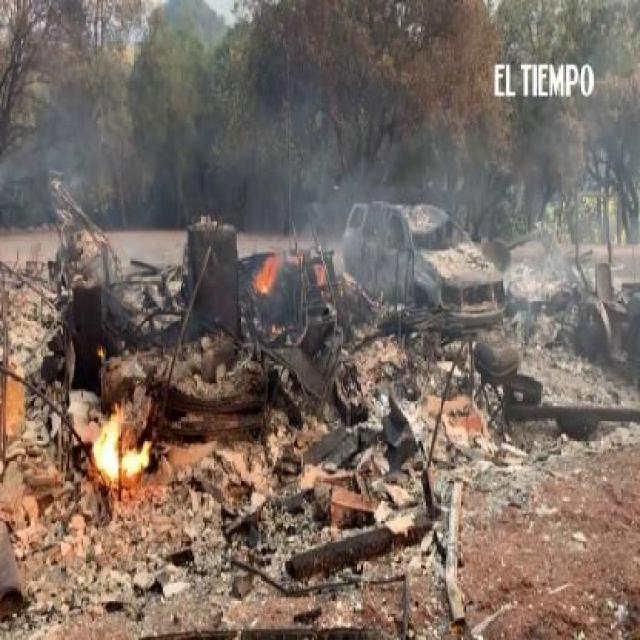Fire: (95, 411, 153, 484), (253, 252, 278, 294)
